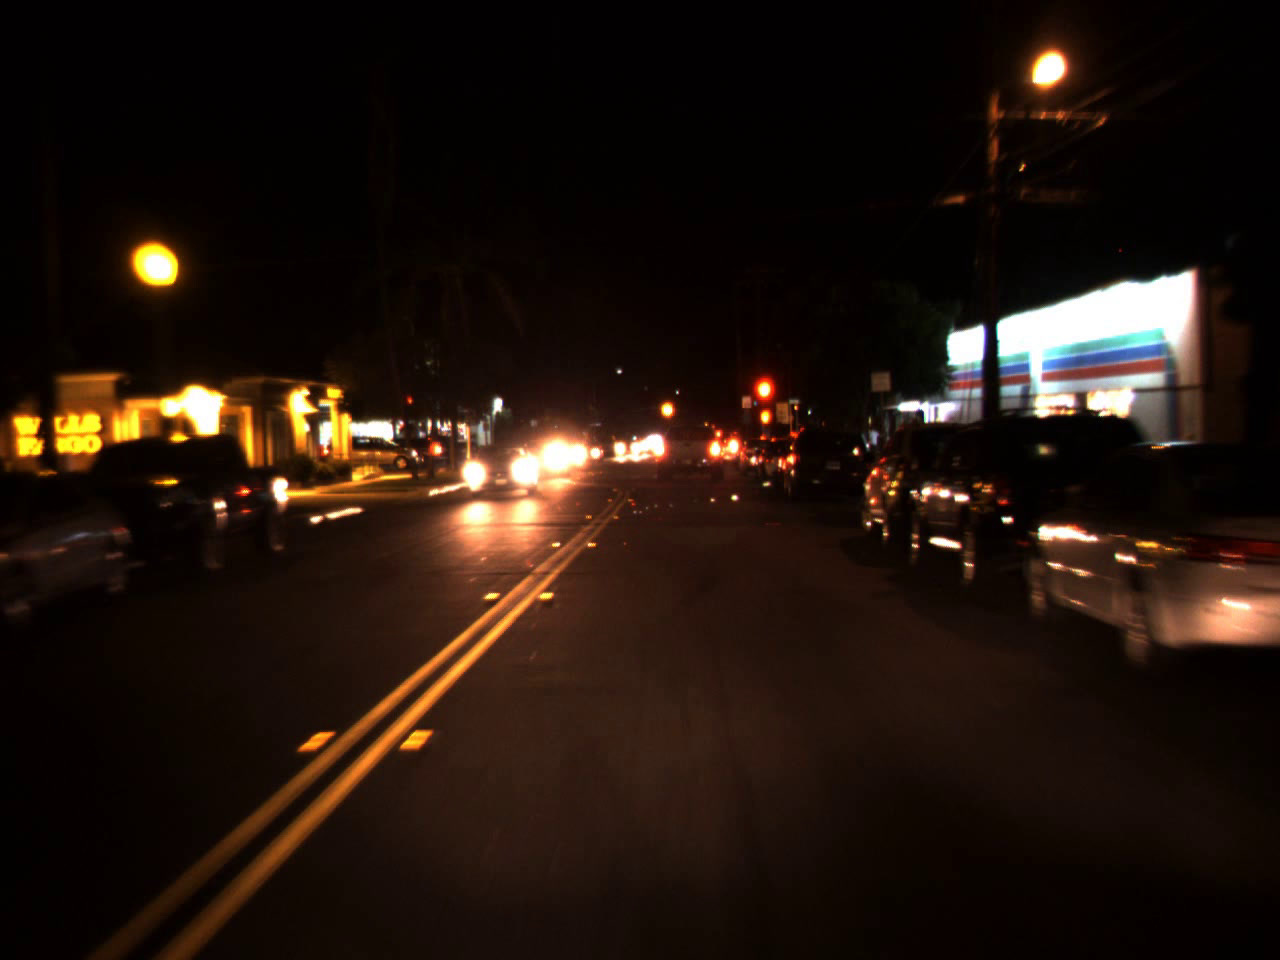stop: (749, 372, 779, 436)
warning: (657, 389, 678, 429)
